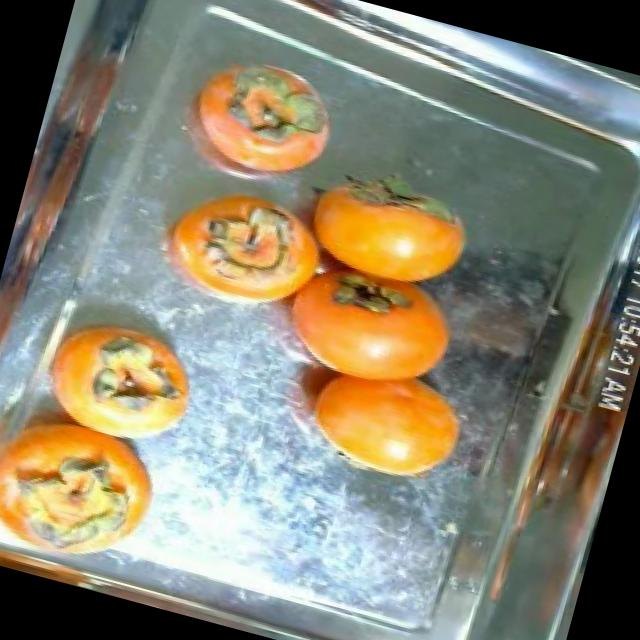Fruit: (279, 152, 496, 321), (154, 34, 358, 206), (285, 340, 487, 505), (63, 311, 216, 460)
